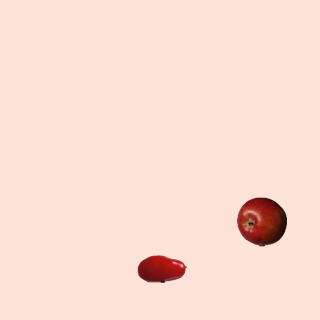Apple Braeburn: (236, 196, 286, 246)
Tomato 2: (136, 243, 186, 293)
